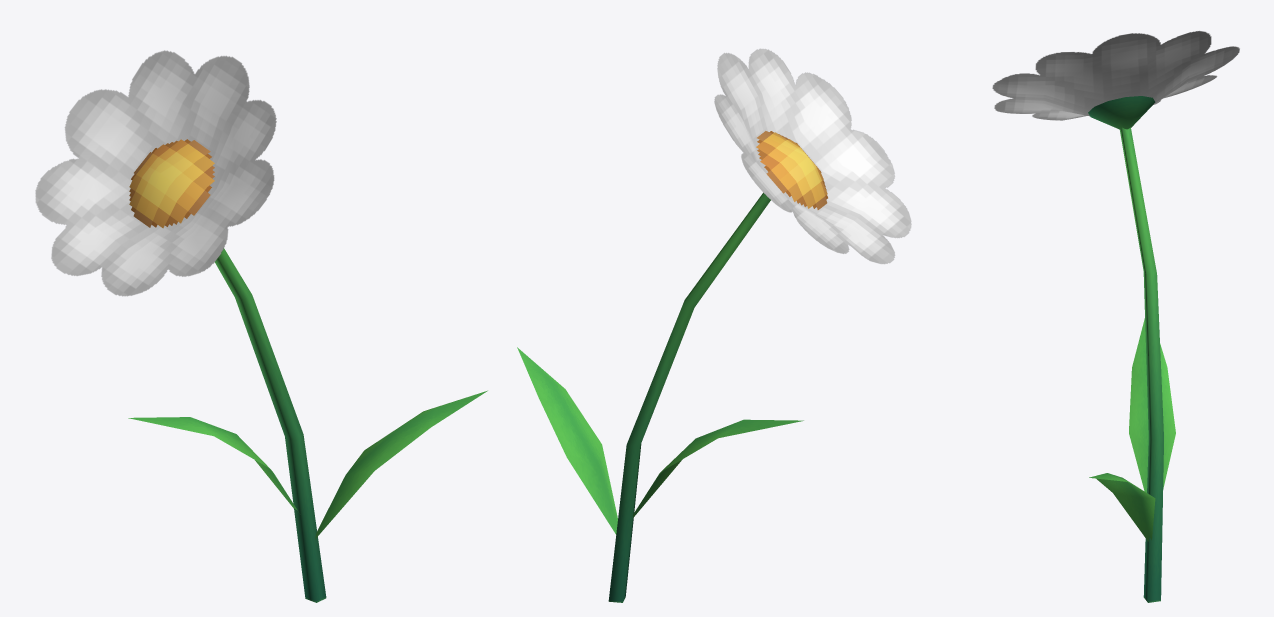
File: Flower_Daisy_3.glb
3 views of the same model, side by side, from view 1: azimuth 30°, elevation 25°; view 2: azimuth 150°, elevation 25°; view 3: azimuth 270°, elevation 25° (orthographic). The views are drawn at different scales.
Parts seen in each view (by area): view 1: Cone.080, Cube.082, Cone.081, object6.063, object6.062; view 2: Cone.080, Cube.082, object6.063, Cone.081, object6.062; view 3: Cone.080, Cube.082, object6.062, object6.063, Cylinder.086.
Part boxes in pixels (<box>): Cone.080: <box>35,50,276,296</box>; Cube.082: <box>215,248,326,602</box>; Cone.081: <box>129,139,214,228</box>; object6.063: <box>315,390,487,539</box>; object6.062: <box>128,417,297,510</box>; Cone.080: <box>714,48,911,263</box>; Cube.082: <box>608,192,770,602</box>; object6.063: <box>517,347,617,534</box>; Cone.081: <box>756,131,827,209</box>; object6.062: <box>633,419,803,517</box>; Cone.080: <box>992,31,1239,120</box>; Cube.082: <box>1120,127,1163,602</box>; object6.062: <box>1129,318,1175,492</box>; object6.063: <box>1089,473,1155,541</box>; Cylinder.086: <box>1088,96,1155,129</box>.
Bounding box in the file's own units: 0.3194 × 0.4226 × 0.2057.
4 materials, 4 textured.
